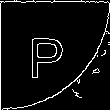P_N: (36, 29, 74, 81)
